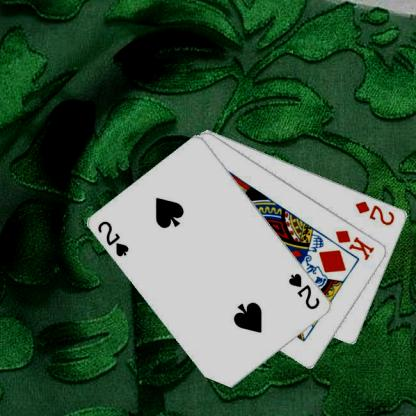2D: (353, 198, 396, 226)
2S: (286, 271, 322, 311), (94, 218, 130, 258)
KD: (332, 227, 376, 262)
